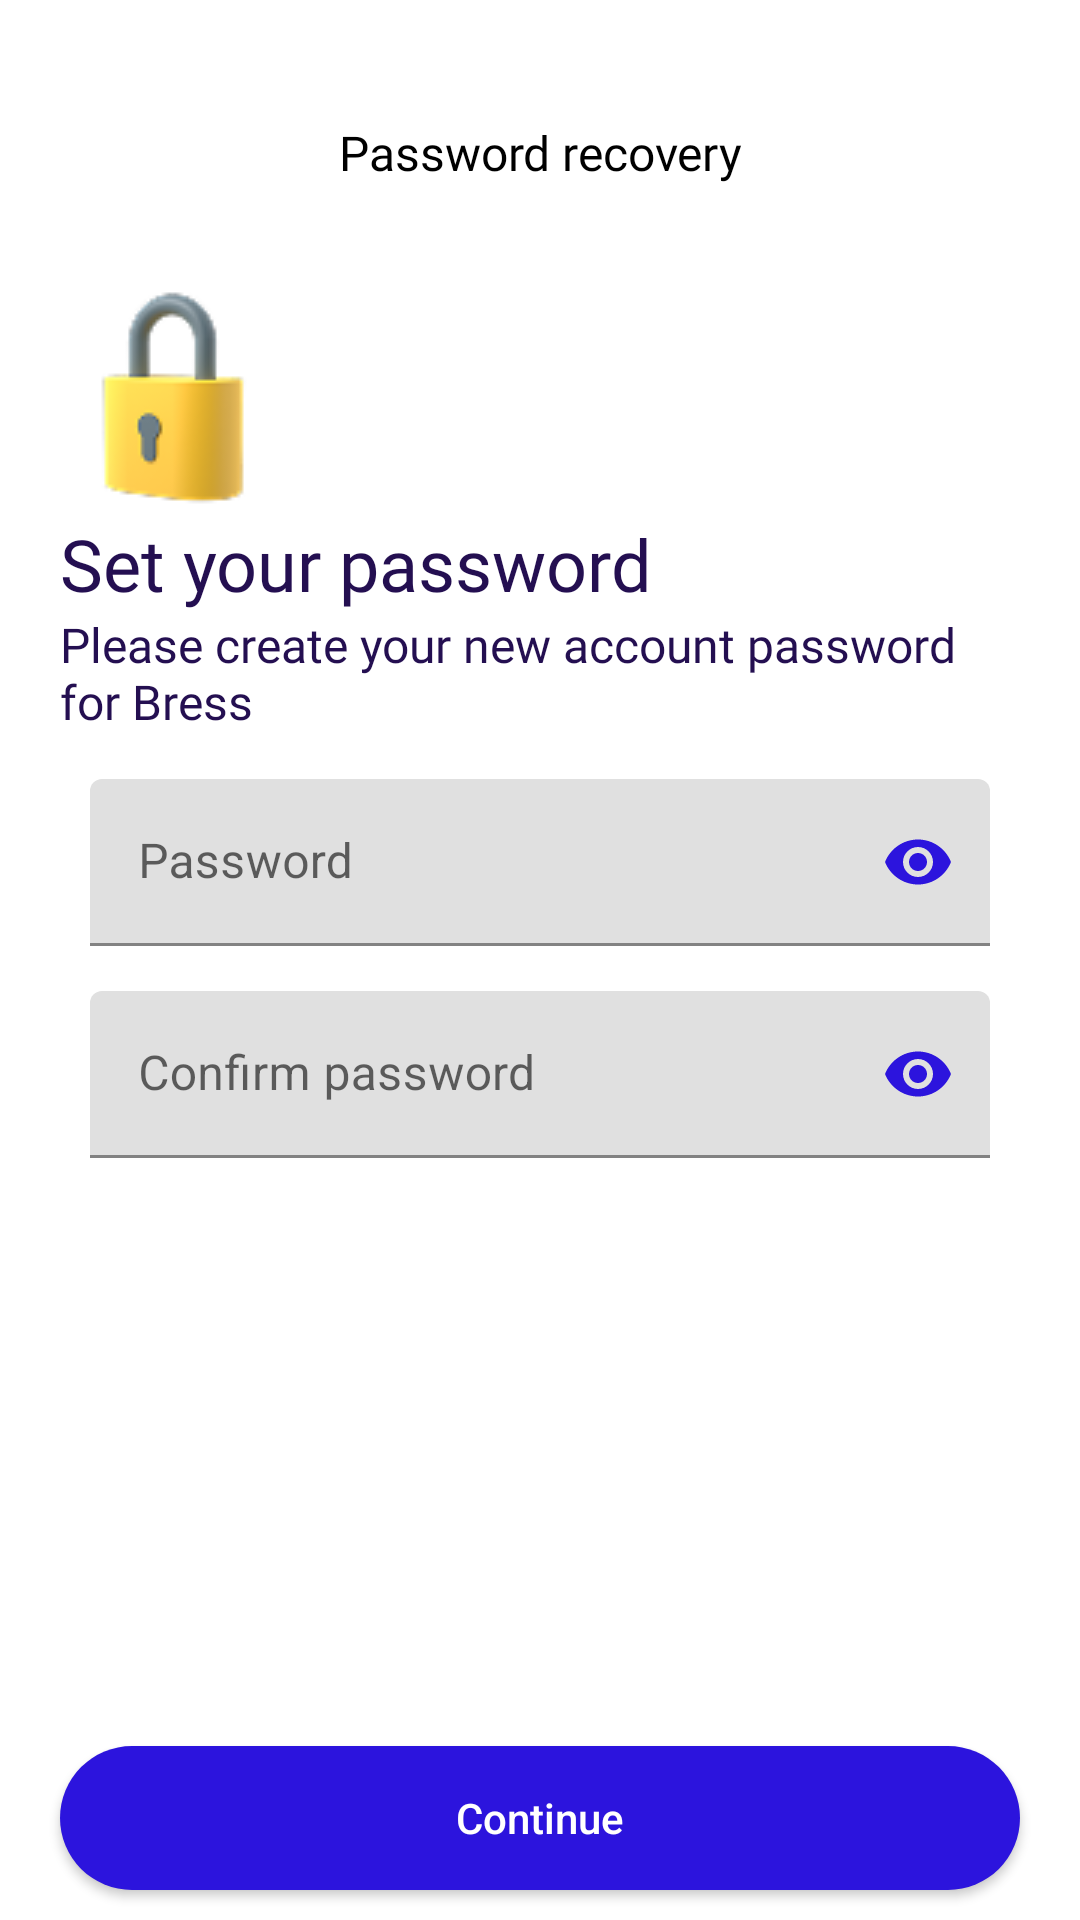

Icon click points for this 1080w x 1920h phone screenshot, format [x,y]:
padlock: [173,397]
